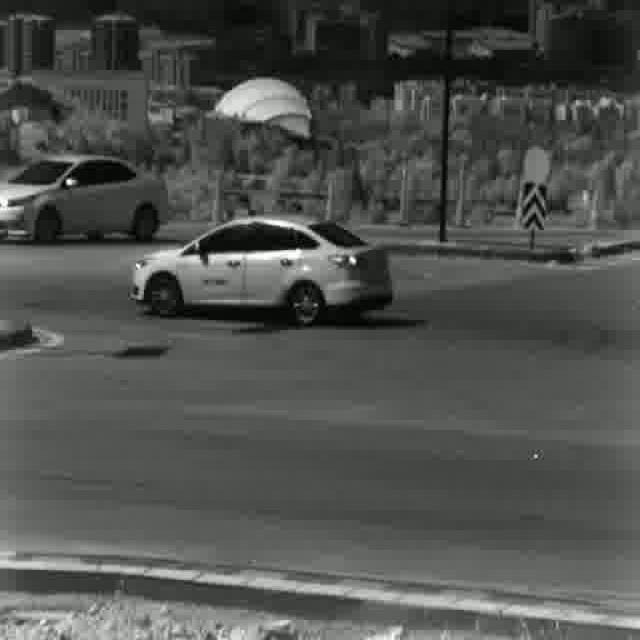Car: (127, 216, 392, 326), (0, 153, 168, 243)
